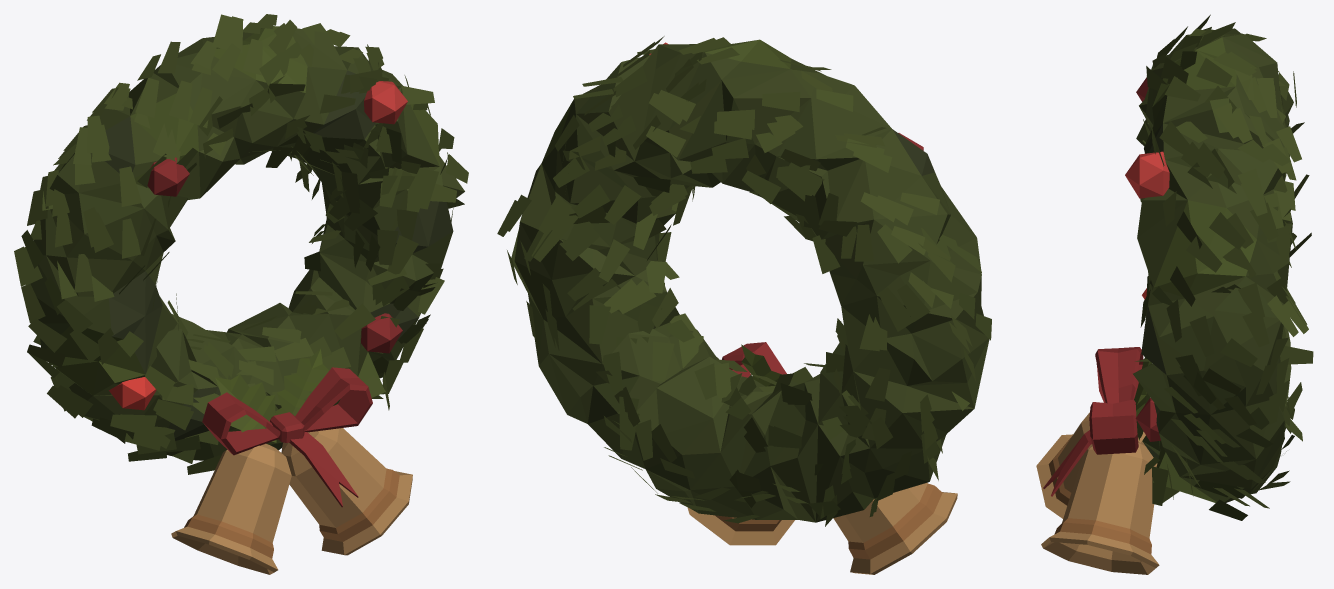
The model's file is wreath-wall.glb.
3 views of the same model, side by side, from view 1: azimuth 30°, elevation 25°; view 2: azimuth 150°, elevation 25°; view 3: azimuth 270°, elevation 25° (orthographic). The views are drawn at different scales.
Parts seen in each view (by area): view 1: wreath_wall; view 2: wreath_wall; view 3: wreath_wall.
Part boxes in pixels (x1,y1,x2,y2): wreath_wall: (14,14,468,574); wreath_wall: (497,36,991,574); wreath_wall: (1036,14,1313,574).
Size of the model in its own units: 0.5754 by 0.6442 by 0.3138.
1 material, 1 textured.
